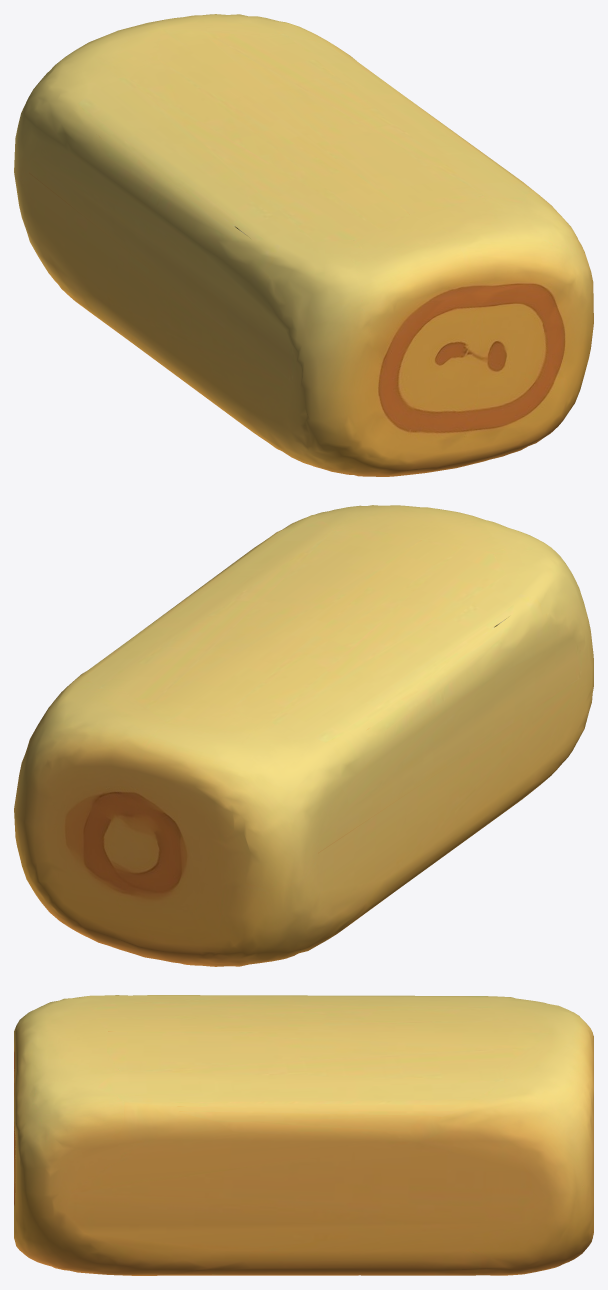
The model's file is tamago.glb.
3 views of the same model, one above another, from view 1: azimuth 30°, elevation 25°; view 2: azimuth 150°, elevation 25°; view 3: azimuth 270°, elevation 25° (orthographic). The views are drawn at different scales.
Parts seen in each view (by area): view 1: tripo_node_28f7f756-784f-4cac-ab8d-4bc9f1cd81fe; view 2: tripo_node_28f7f756-784f-4cac-ab8d-4bc9f1cd81fe; view 3: tripo_node_28f7f756-784f-4cac-ab8d-4bc9f1cd81fe.
Part boxes in pixels (x1=…): tripo_node_28f7f756-784f-4cac-ab8d-4bc9f1cd81fe: x1=14, y1=14, x2=593, y2=476; tripo_node_28f7f756-784f-4cac-ab8d-4bc9f1cd81fe: x1=14, y1=505, x2=593, y2=966; tripo_node_28f7f756-784f-4cac-ab8d-4bc9f1cd81fe: x1=14, y1=995, x2=593, y2=1275.
Size of the model in its own units: 0.5059 by 0.3848 by 0.998.
Materials: 1 (1 with a texture image).
